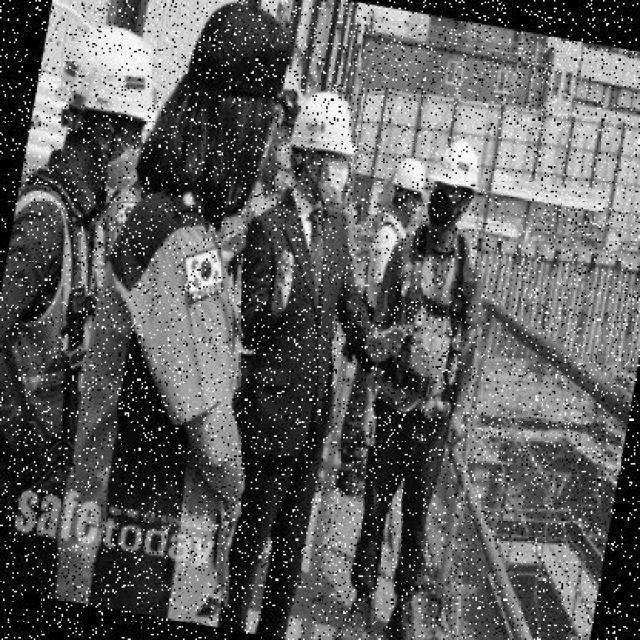Arnes_seguridad: (359, 228, 492, 466)
